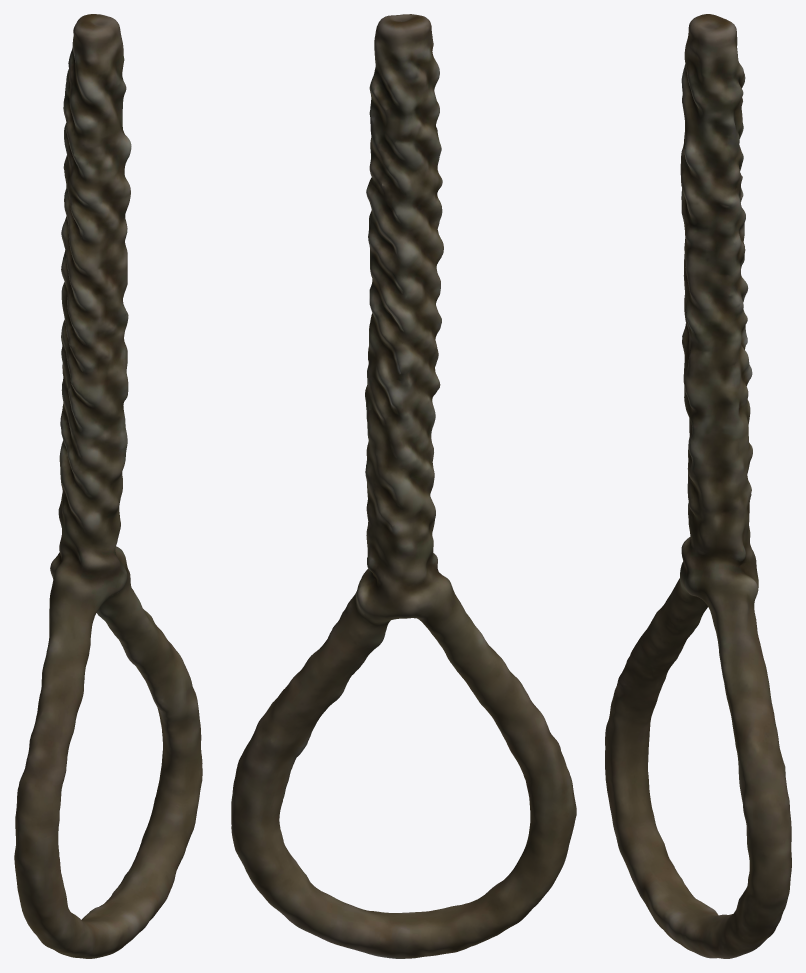
The model's file is SM_Rope.fbx.
3 views of the same model, side by side, from view 1: azimuth 30°, elevation 25°; view 2: azimuth 150°, elevation 25°; view 3: azimuth 270°, elevation 25° (orthographic). The views are drawn at different scales.
Parts seen in each view (by area): view 1: high_poly; view 2: high_poly; view 3: high_poly.
Part boxes in pixels (<box>): high_poly: <box>14,14,202,958</box>; high_poly: <box>231,14,576,958</box>; high_poly: <box>605,14,791,958</box>.
Size of the model in its own units: 28.99 by 100 by 18.37.
